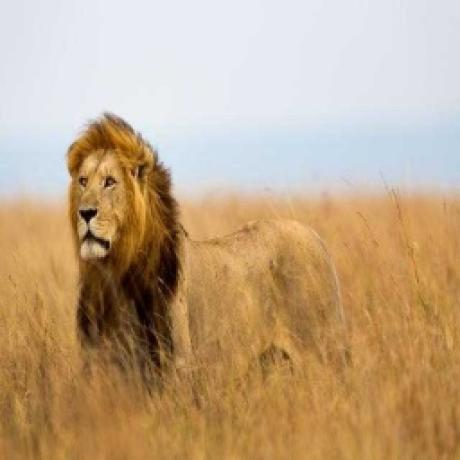Lion: (62, 112, 354, 378)
